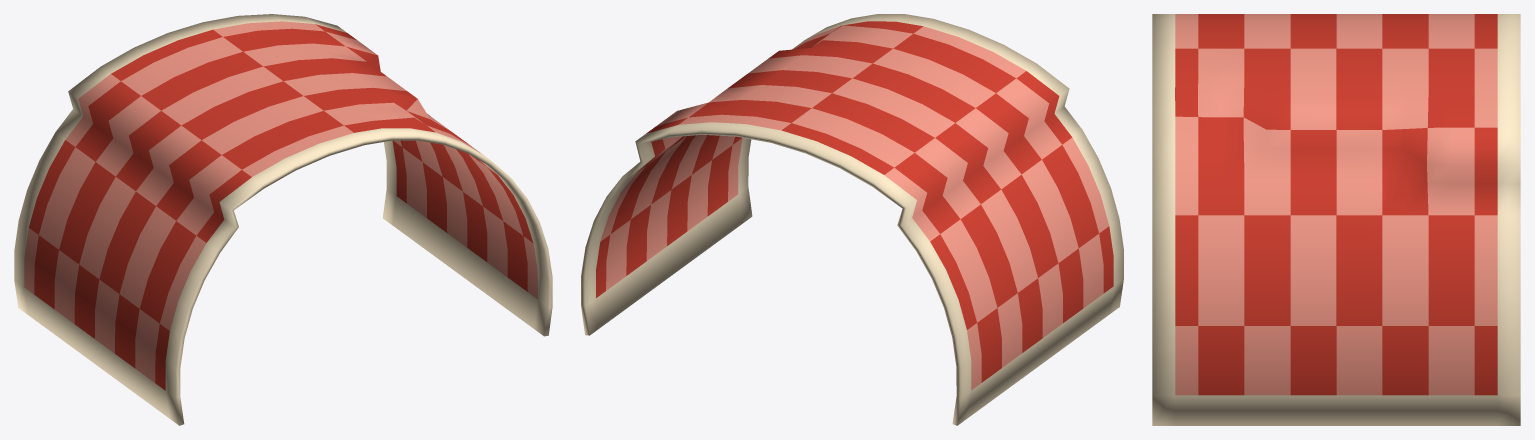
The picture shows the model from 3 angles, left to right: view 1: azimuth 30°, elevation 25°; view 2: azimuth 150°, elevation 25°; view 3: azimuth 270°, elevation 25°; orthographic projection. The views are drawn at different scales.
Parts seen in each view (by area): view 1: horse-blanket; view 2: horse-blanket; view 3: horse-blanket.
Boxes of the visible parts, x1,y1,x2,y2 form: horse-blanket: [14, 14, 552, 425]; horse-blanket: [581, 14, 1123, 425]; horse-blanket: [1152, 14, 1520, 425].
Bounding box in the file's own units: 0.3172 × 0.1934 × 0.235.
